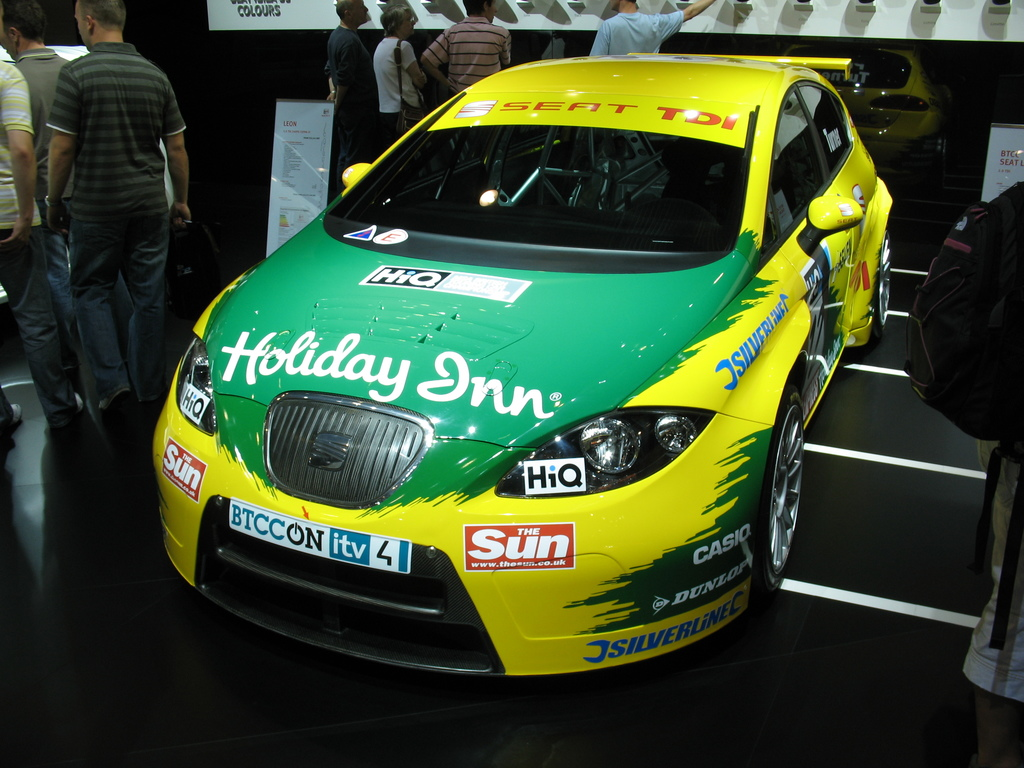mobil: (160, 59, 898, 712)
